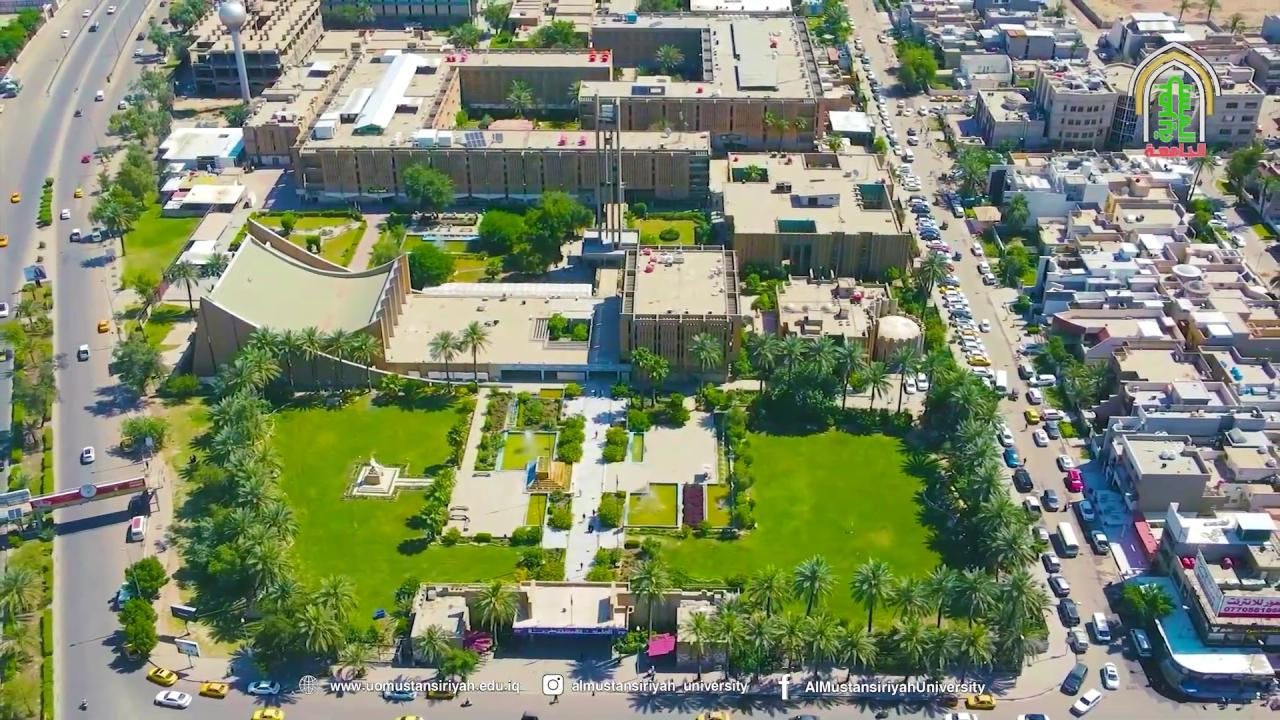car: (1070, 689, 1103, 718), (1060, 662, 1088, 696), (154, 689, 192, 709), (115, 581, 141, 609), (1056, 599, 1080, 627), (1130, 628, 1152, 657), (1067, 625, 1089, 653), (148, 666, 178, 686), (1092, 612, 1111, 643), (126, 514, 146, 542), (1012, 468, 1033, 493), (198, 681, 228, 698), (247, 680, 281, 695), (1047, 576, 1070, 598), (174, 637, 199, 657), (1101, 663, 1119, 690), (966, 694, 996, 710), (1040, 489, 1060, 512), (1092, 531, 1110, 555), (1068, 467, 1084, 492), (1041, 553, 1061, 573), (251, 708, 284, 720), (382, 690, 415, 702), (1080, 500, 1096, 521), (1056, 455, 1075, 472), (80, 446, 94, 464), (941, 693, 958, 707), (76, 344, 89, 361), (1034, 527, 1049, 541), (154, 538, 168, 552), (1016, 714, 1048, 720), (709, 211, 724, 223), (1159, 450, 1176, 460), (97, 319, 109, 333), (372, 609, 387, 620), (68, 229, 80, 242), (788, 714, 819, 719), (520, 712, 539, 720), (396, 714, 424, 719), (59, 208, 70, 219), (95, 89, 104, 101), (73, 188, 83, 198), (11, 192, 20, 203), (117, 100, 128, 109), (105, 5, 116, 13), (0, 234, 7, 246), (81, 154, 90, 163), (82, 9, 91, 17), (61, 29, 69, 37), (137, 32, 145, 40)
fountain: (495, 427, 558, 472), (628, 479, 679, 530), (593, 422, 645, 465), (410, 217, 486, 245), (706, 479, 737, 529), (524, 488, 546, 532)
person: (588, 509, 599, 534)
tree: (676, 554, 1050, 685), (167, 387, 301, 640), (900, 413, 1040, 578), (228, 322, 383, 397), (476, 188, 595, 275), (985, 566, 1049, 673), (716, 405, 755, 529), (412, 622, 482, 689), (626, 556, 674, 640), (88, 184, 141, 255), (214, 345, 282, 400), (109, 330, 163, 398), (848, 556, 894, 633), (705, 601, 749, 680), (10, 359, 59, 428), (472, 579, 519, 647), (948, 618, 996, 681), (765, 610, 811, 675), (107, 101, 172, 147), (790, 554, 838, 616), (799, 611, 841, 681), (950, 566, 998, 627), (0, 563, 47, 624), (418, 466, 457, 538), (742, 562, 792, 617), (917, 563, 959, 628), (116, 596, 159, 659), (401, 163, 455, 213), (295, 603, 344, 658), (677, 609, 714, 681), (117, 269, 161, 329), (886, 343, 923, 414), (114, 144, 155, 207), (1122, 580, 1176, 626), (686, 331, 722, 399), (1222, 145, 1263, 204), (406, 241, 455, 290), (629, 346, 669, 406), (312, 572, 359, 623), (836, 619, 878, 676), (162, 255, 203, 313), (885, 572, 930, 624), (743, 610, 775, 683), (126, 65, 175, 112), (117, 413, 168, 458), (476, 208, 527, 253), (952, 143, 994, 197), (893, 615, 932, 672), (426, 330, 463, 390), (761, 108, 807, 156), (745, 330, 780, 393), (458, 320, 492, 384), (122, 554, 168, 601), (851, 358, 892, 410), (347, 332, 382, 391), (897, 43, 938, 93), (295, 325, 327, 389), (323, 326, 355, 387), (554, 426, 584, 491), (738, 272, 783, 314), (526, 18, 584, 50), (366, 222, 405, 268), (802, 333, 839, 379), (774, 333, 809, 380), (412, 622, 451, 664), (1185, 147, 1218, 196), (438, 647, 481, 684), (1001, 239, 1031, 289), (338, 641, 376, 679), (1041, 334, 1073, 377), (1186, 194, 1215, 240), (166, 0, 206, 32), (474, 431, 506, 470), (418, 501, 449, 539), (478, 1, 511, 36), (505, 77, 533, 118), (393, 575, 420, 616), (444, 421, 467, 468), (601, 425, 628, 463), (447, 22, 481, 52), (653, 43, 684, 75), (596, 492, 623, 528), (567, 79, 587, 127), (1005, 190, 1029, 227), (341, 0, 375, 26), (546, 499, 573, 531), (36, 177, 53, 226), (220, 102, 250, 127), (378, 371, 404, 396), (546, 312, 567, 340), (774, 117, 790, 153), (483, 255, 504, 281), (761, 107, 776, 141), (1225, 12, 1246, 35), (792, 115, 807, 144), (1174, 0, 1192, 24), (279, 212, 297, 236), (1202, 0, 1220, 21), (826, 136, 843, 154), (873, 135, 887, 155)
